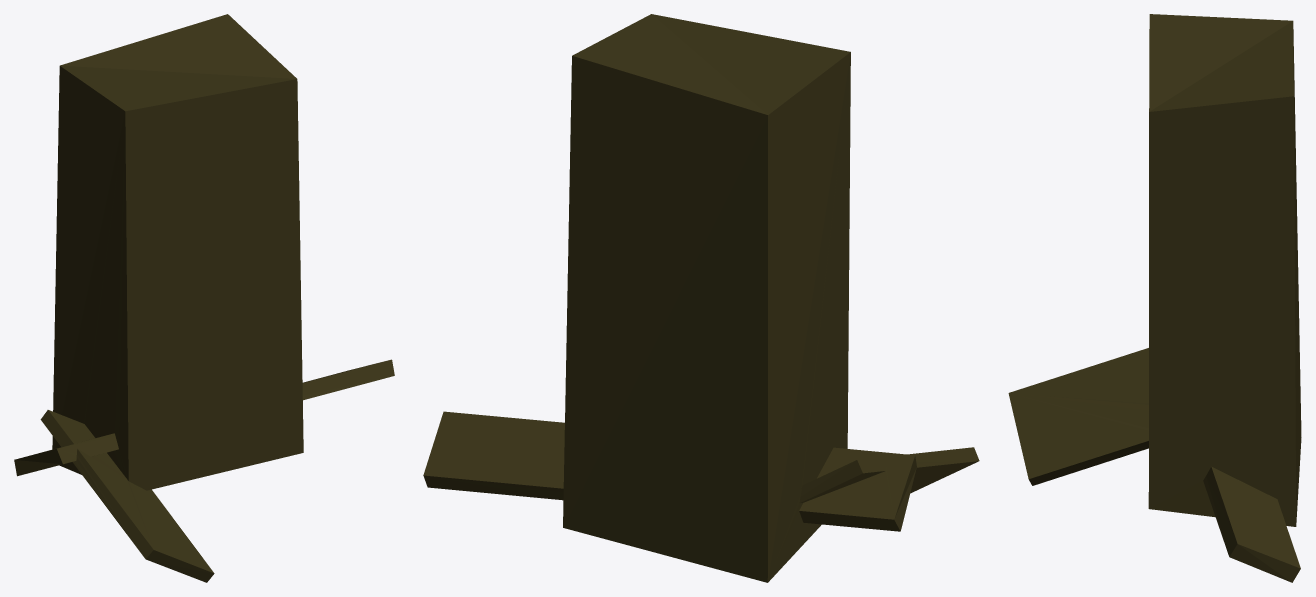
The picture shows the model from 3 angles, left to right: view 1: azimuth 30°, elevation 25°; view 2: azimuth 150°, elevation 25°; view 3: azimuth 270°, elevation 25°; orthographic projection. The views are drawn at different scales.
Visible parts, largest first — view 1: 370_Cube.1509; view 2: 370_Cube.1509; view 3: 370_Cube.1509.
Part boxes in pixels (bbox=[...]): 370_Cube.1509: bbox=[14, 14, 394, 582]; 370_Cube.1509: bbox=[423, 14, 979, 582]; 370_Cube.1509: bbox=[1008, 14, 1301, 582].
Bounding box in the file's own units: 12.25 × 13.48 × 7.71.
